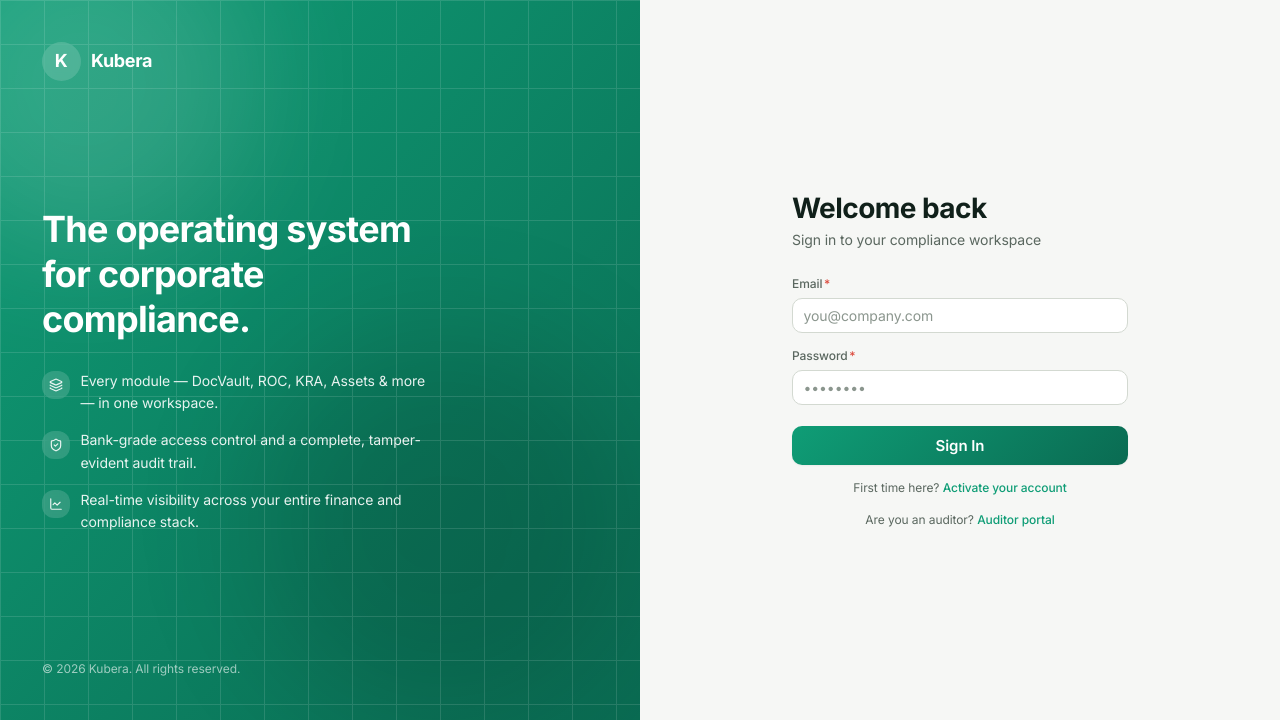
CompanyLogin Rate Limit › displays standard error on 401 response
In the field labelled "Email*": (960, 316) [792,298,1128,333], type "admin@acme.test"
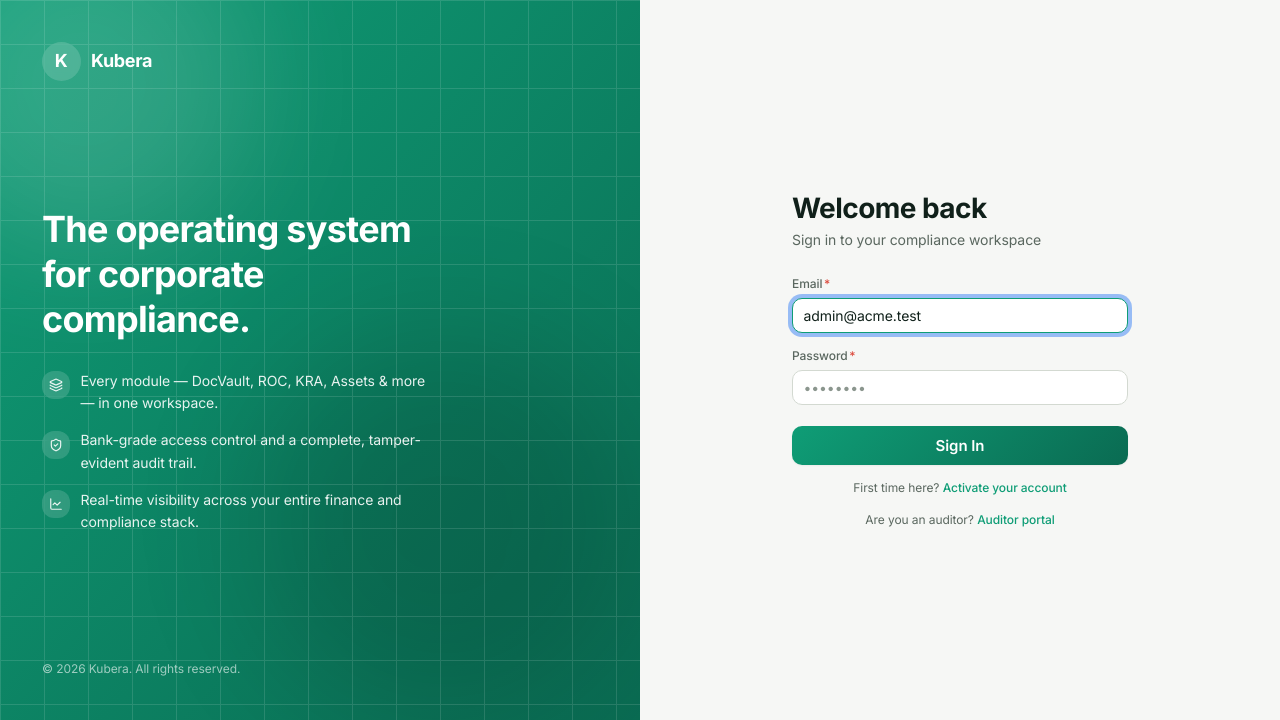
In the password field labelled "Password*": (960, 388) [792,370,1128,405], type "wrong"
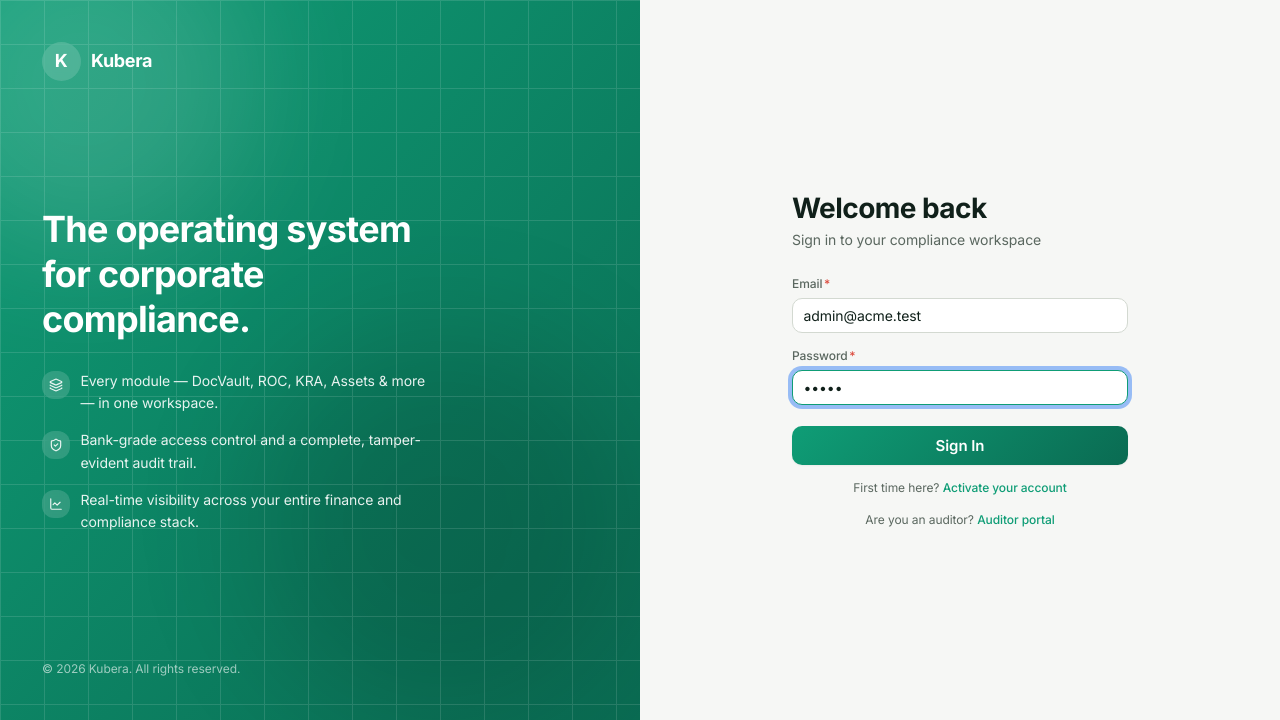
Click the button "Sign In": (960, 446) [792,426,1128,465]
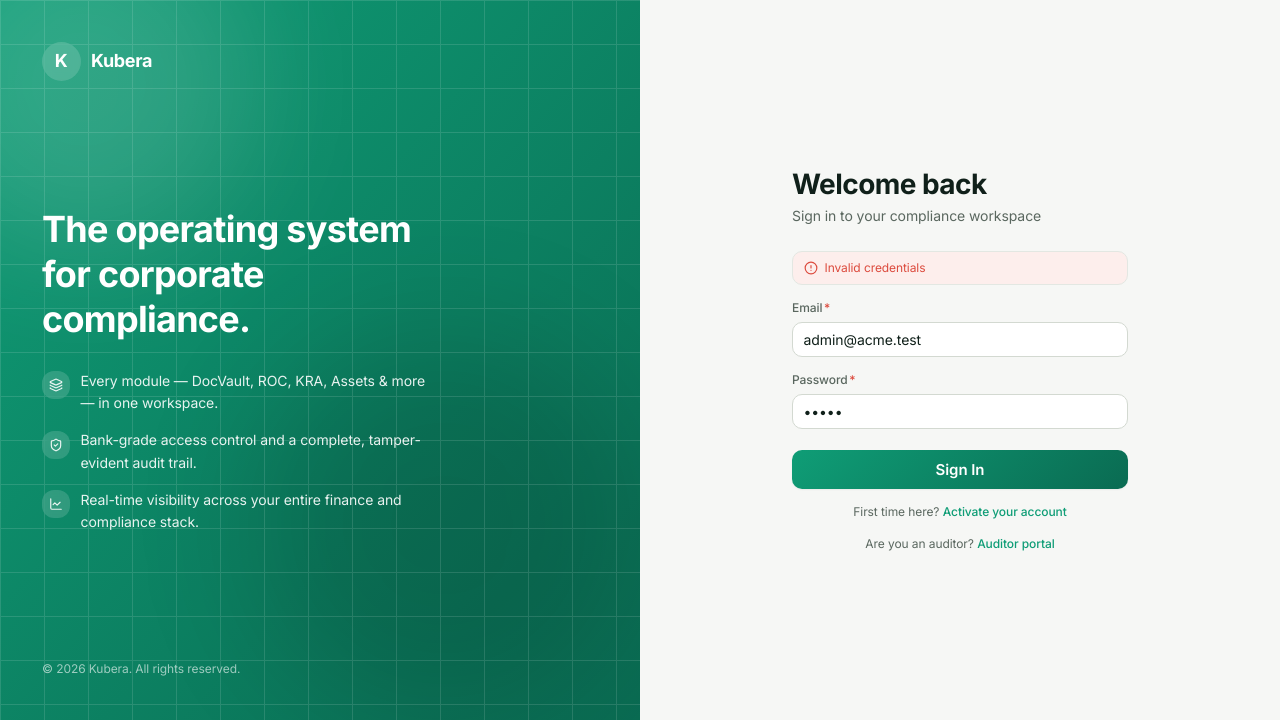
Expected: the button "Invalid credentials" is shown, [792,251,1128,285]
